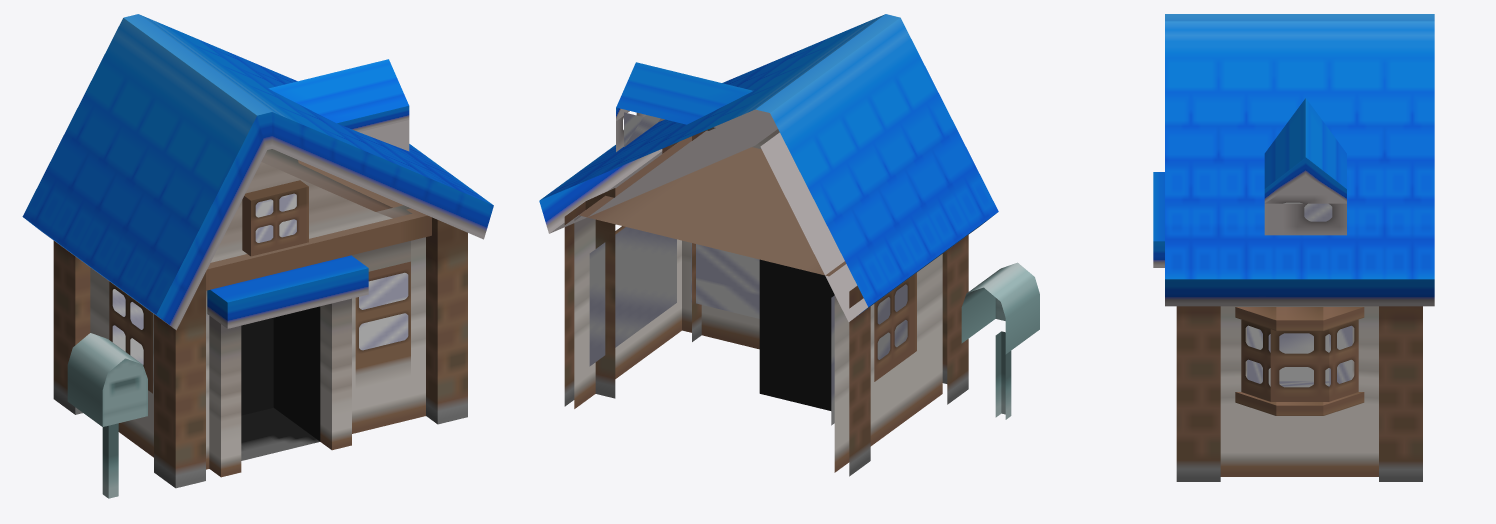
File: house_1.obj
3 views of the same model, side by side, from view 1: azimuth 30°, elevation 25°; view 2: azimuth 150°, elevation 25°; view 3: azimuth 270°, elevation 25° (orthographic). The views are drawn at different scales.
Parts seen in each view (by area): view 1: house_1; view 2: house_1; view 3: house_1.
Part boxes in pixels (box(x1,y1,x2,y2)): house_1: box(22, 14, 493, 498); house_1: box(539, 14, 1039, 476); house_1: box(1153, 14, 1434, 481).
Bounding box in the file's own units: 0.8944 × 0.7875 × 0.7931.
Materials: 1 (1 with a texture image).
